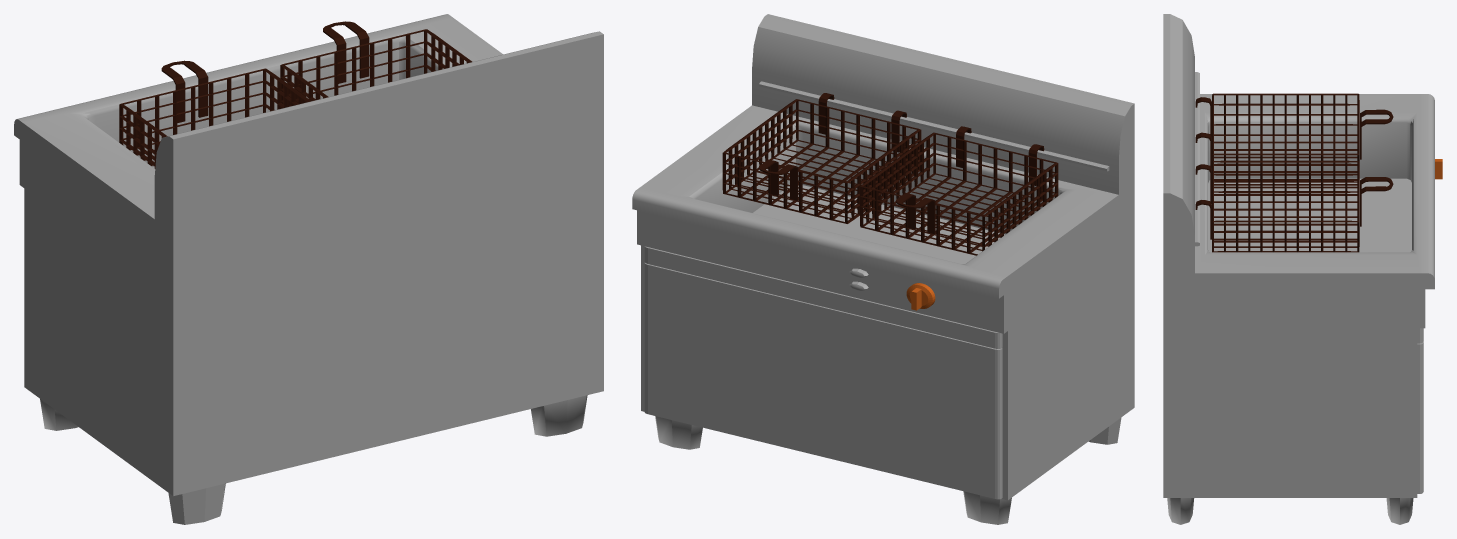
The model's file is Greasy Frier.fbx.
3 renders of one model, left to right at view 1: azimuth 30°, elevation 25°; view 2: azimuth 150°, elevation 25°; view 3: azimuth 270°, elevation 25°, orthographic. The views are drawn at different scales.
Visible parts, largest first — view 1: frier, Prop_Frier_p03, Prop_Frier_p02; view 2: frier, Prop_Frier_p03, Prop_Frier_p02, Prop_Frier_p04; view 3: frier, Prop_Frier_p02, Prop_Frier_p03.
Part boxes in pixels (<box>): frier: <box>14,14,603,524</box>; Prop_Frier_p03: <box>119,60,311,168</box>; Prop_Frier_p02: <box>280,21,472,108</box>; frier: <box>632,14,1134,524</box>; Prop_Frier_p03: <box>860,126,1058,255</box>; Prop_Frier_p02: <box>722,93,921,223</box>; Prop_Frier_p04: <box>906,283,935,310</box>; frier: <box>1163,14,1434,524</box>; Prop_Frier_p02: <box>1195,160,1393,252</box>; Prop_Frier_p03: <box>1195,93,1393,195</box>.
Bounding box in the file's own units: 405 × 354 × 267.
